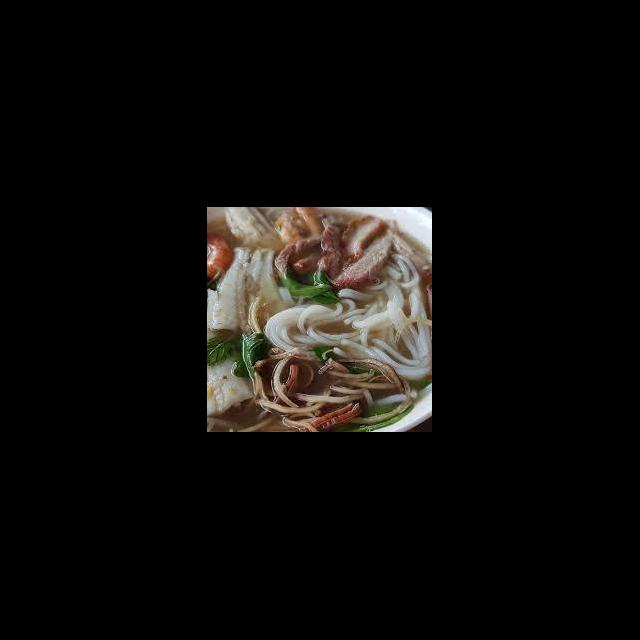bun: (262, 250, 432, 384)
ca: (210, 240, 292, 336), (222, 208, 288, 258)
rau ram: (278, 266, 344, 308)
thit heo quay: (326, 224, 396, 294), (338, 212, 392, 264), (272, 234, 330, 280), (314, 216, 352, 276)
tom: (272, 208, 326, 250)
